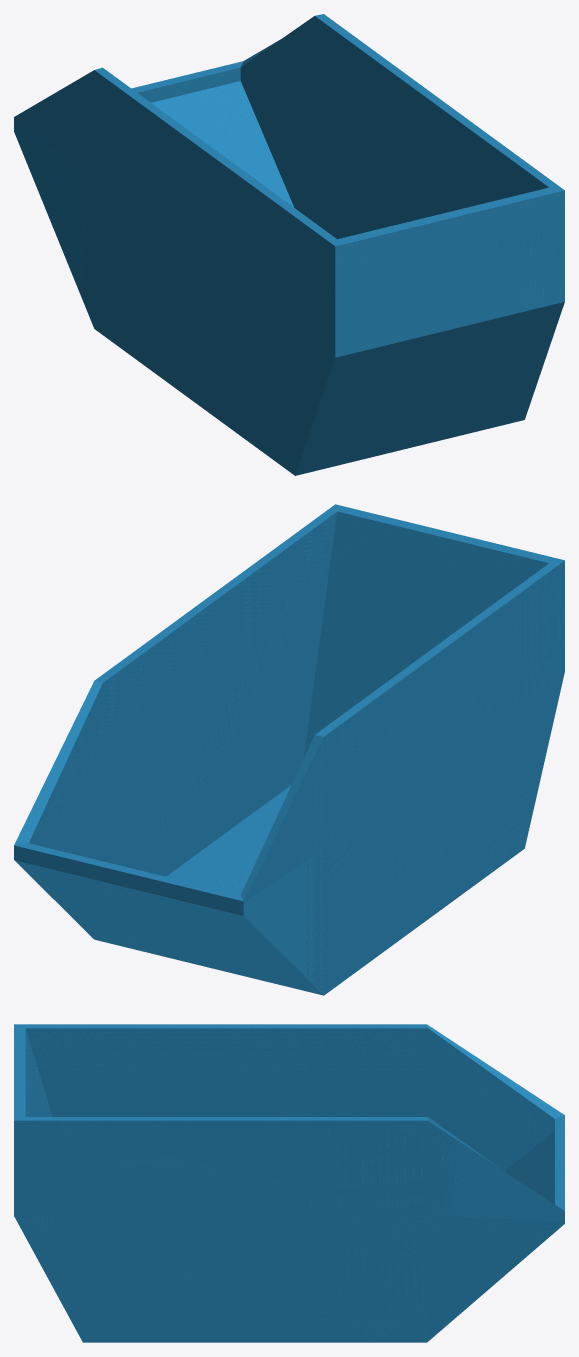
Rendered from container-rubble-blue-small.glb.
The picture shows the model from 3 angles, top to bottom: view 1: azimuth 30°, elevation 25°; view 2: azimuth 150°, elevation 25°; view 3: azimuth 270°, elevation 25°; orthographic projection. The views are drawn at different scales.
Visible parts, largest first — view 1: Container Blue Small; view 2: Container Blue Small; view 3: Container Blue Small.
Part boxes in pixels (x1,y1,x2,y2): Container Blue Small: (14, 14, 564, 475); Container Blue Small: (14, 504, 564, 995); Container Blue Small: (14, 1024, 564, 1342).
Size of the model in its own units: 1.24 by 1.33 by 3.
1 material, 1 textured.
